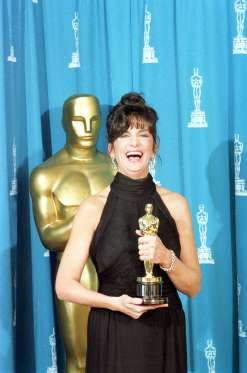hand: (110, 299, 166, 317)
